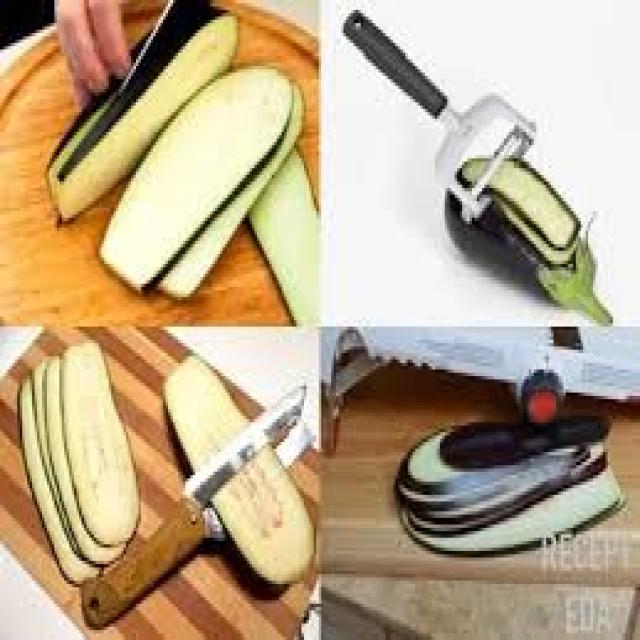eggplant: (55, 0, 296, 287), (384, 390, 634, 581), (430, 145, 640, 360), (149, 372, 316, 600), (15, 344, 170, 585)
